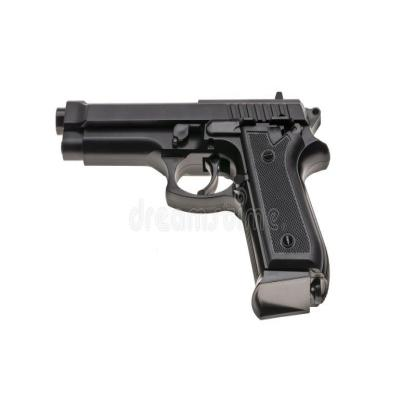handgun: (52, 88, 330, 320)
